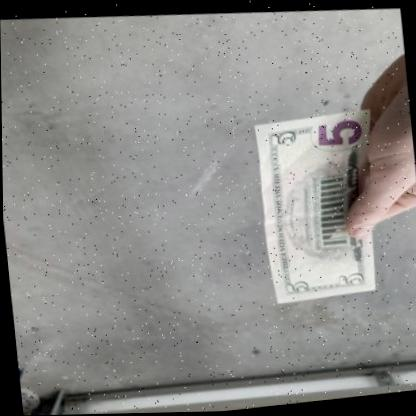five-back: (252, 103, 373, 300)
